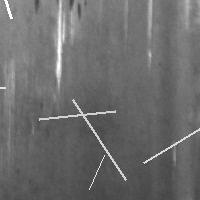scratches: (67, 94, 130, 184), (139, 110, 200, 167), (34, 106, 120, 124), (53, 1, 67, 93), (84, 150, 109, 194), (145, 1, 155, 69), (0, 0, 16, 23), (0, 83, 10, 93)
